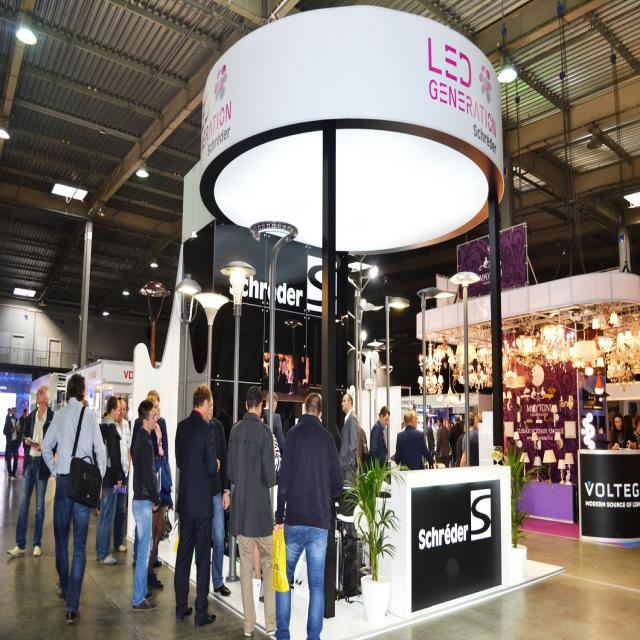body: (272, 389, 345, 639), (39, 370, 106, 626), (173, 383, 221, 626), (5, 384, 57, 559), (131, 388, 170, 568), (131, 398, 162, 612), (139, 395, 172, 591), (205, 391, 232, 597), (252, 407, 282, 581), (94, 395, 124, 566), (337, 391, 360, 539), (113, 395, 132, 553), (345, 415, 368, 528), (393, 410, 434, 471), (115, 404, 132, 512), (260, 348, 311, 384), (396, 416, 415, 509), (369, 404, 390, 484), (2, 406, 22, 480), (263, 390, 285, 457), (610, 410, 638, 450), (460, 412, 479, 467), (448, 415, 463, 468), (436, 416, 450, 468), (457, 416, 469, 467), (456, 418, 466, 468), (421, 413, 434, 445), (630, 414, 640, 449), (445, 419, 452, 466), (622, 414, 632, 436), (19, 408, 28, 430), (604, 354, 611, 382), (474, 412, 483, 433), (5, 407, 12, 421), (445, 419, 451, 432), (401, 421, 406, 432), (84, 398, 88, 408), (450, 420, 455, 427)
